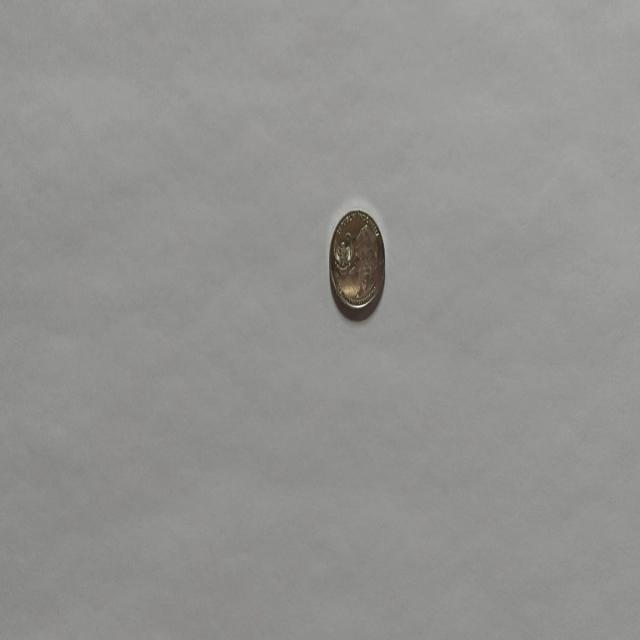dua ratus rupiah: (328, 207, 386, 320)
